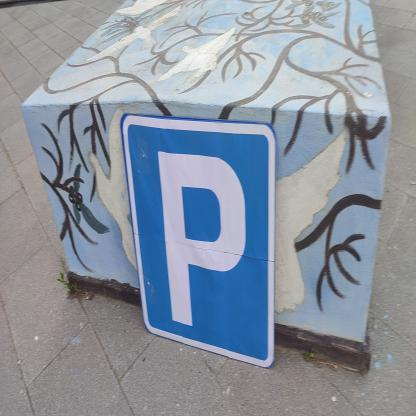parking: (120, 111, 276, 368)
